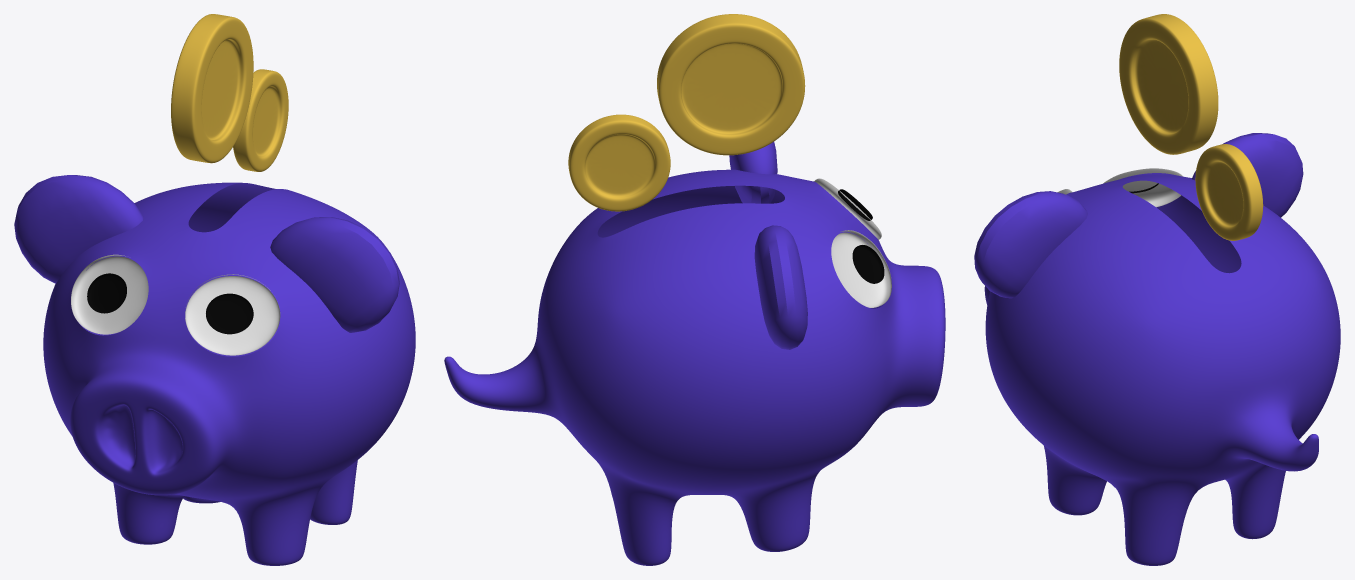
Rendered from piggy-saving-3d-icon-330714664589.glb.
The picture shows the model from 3 angles, left to right: view 1: azimuth 30°, elevation 25°; view 2: azimuth 150°, elevation 25°; view 3: azimuth 270°, elevation 25°; orthographic projection. The views are drawn at different scales.
Visible parts, largest first — view 1: Body, Coin, Eye 1, Eye 2; view 2: Body, Coin, Eye 1, Eye 2; view 3: Body, Coin, Eye 1.
Boxes of the visible parts, bbox=[...] form: Body: bbox=[14, 175, 415, 565]; Coin: bbox=[171, 14, 288, 171]; Eye 1: bbox=[71, 254, 280, 355]; Eye 2: bbox=[87, 273, 253, 334]; Body: bbox=[444, 142, 945, 565]; Coin: bbox=[568, 14, 805, 211]; Eye 1: bbox=[814, 178, 891, 307]; Eye 2: bbox=[838, 189, 884, 283]; Body: bbox=[974, 133, 1340, 565]; Coin: bbox=[1119, 14, 1263, 240]; Eye 1: bbox=[1057, 168, 1182, 207].
Size of the model in its own units: 1.72 by 2.21 by 1.49.
